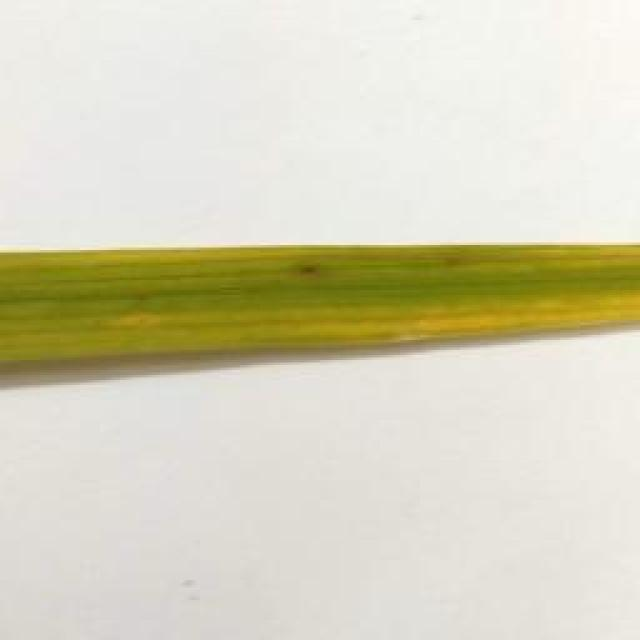Brown_Spot: (436, 252, 473, 278), (291, 259, 324, 286)
